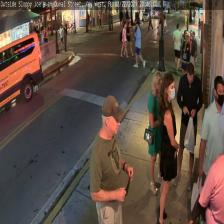person: (90, 95, 134, 224), (198, 74, 224, 216), (174, 62, 202, 189), (159, 73, 178, 222), (192, 138, 224, 222), (147, 8, 153, 30), (90, 12, 92, 29)
